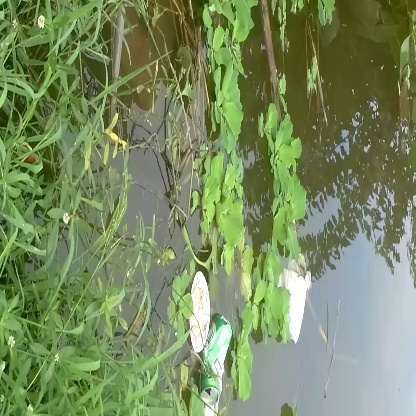bottle: (198, 310, 240, 404)
